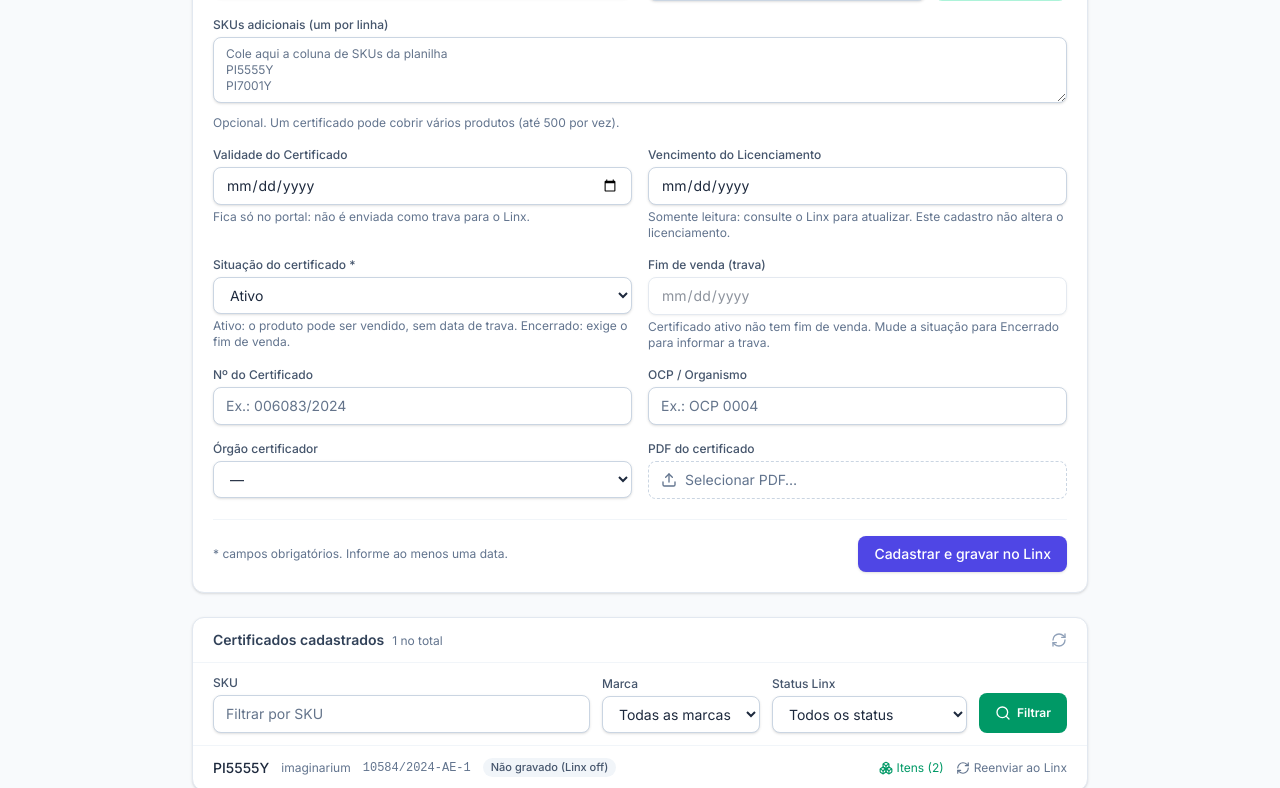
it: CertCadastroPage — fim de venda e itens (D11) › confirma o vinculo com dry_run=false
(page scrolled)
Click the button "Itens (2)" at (911, 768), box x1=878 y1=760 x2=944 y2=776
(page scrolled)
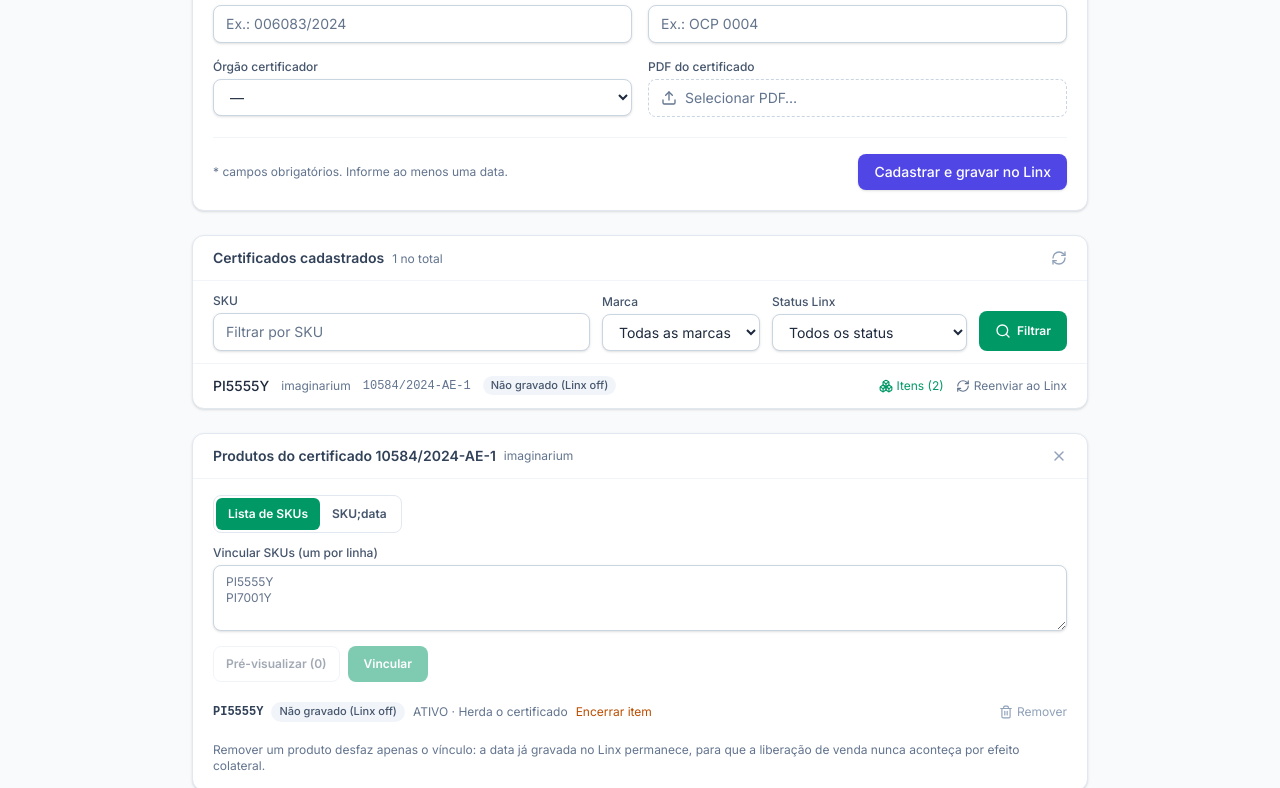
Type "A" into the text box labelled "Vincular SKUs (um por linha)" at (640, 598), box x1=213 y1=565 x2=1067 y2=631
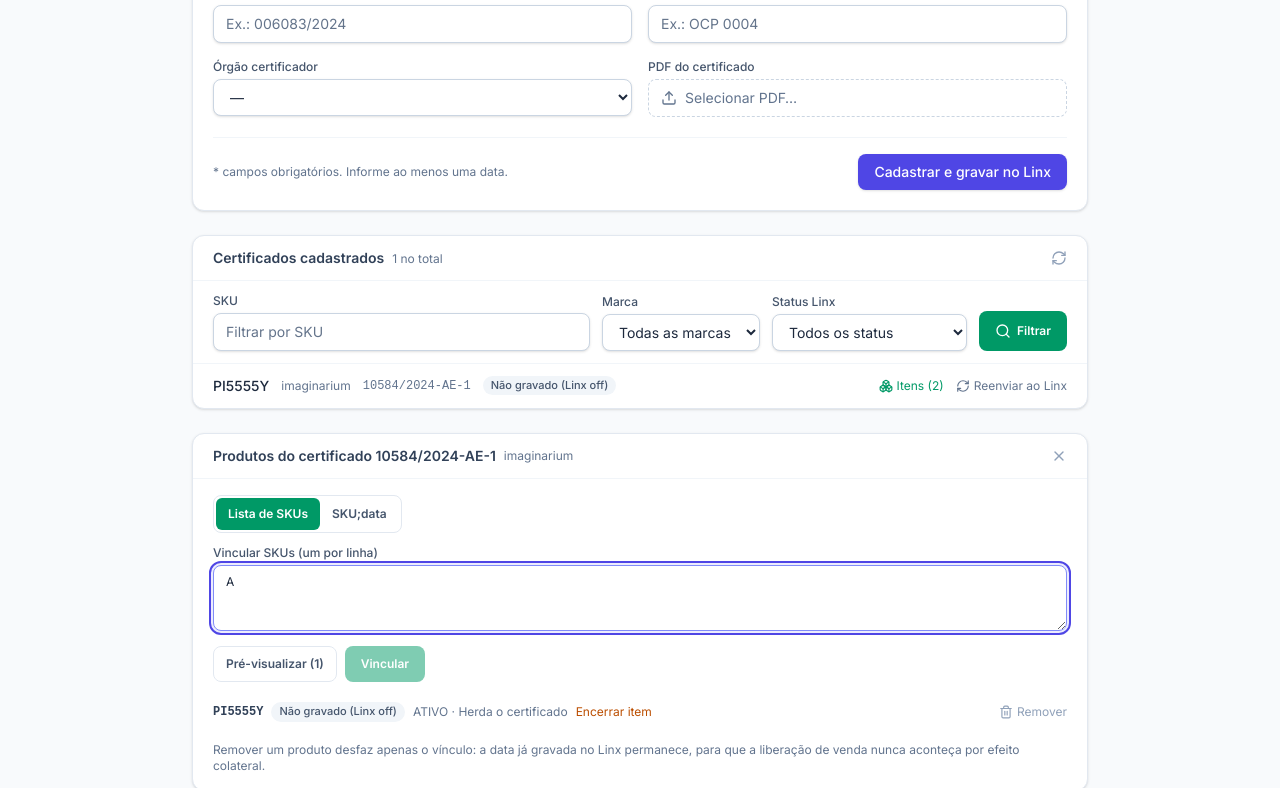
Click the button "Pré-visualizar (1)" at (275, 664), box x1=213 y1=646 x2=337 y2=682
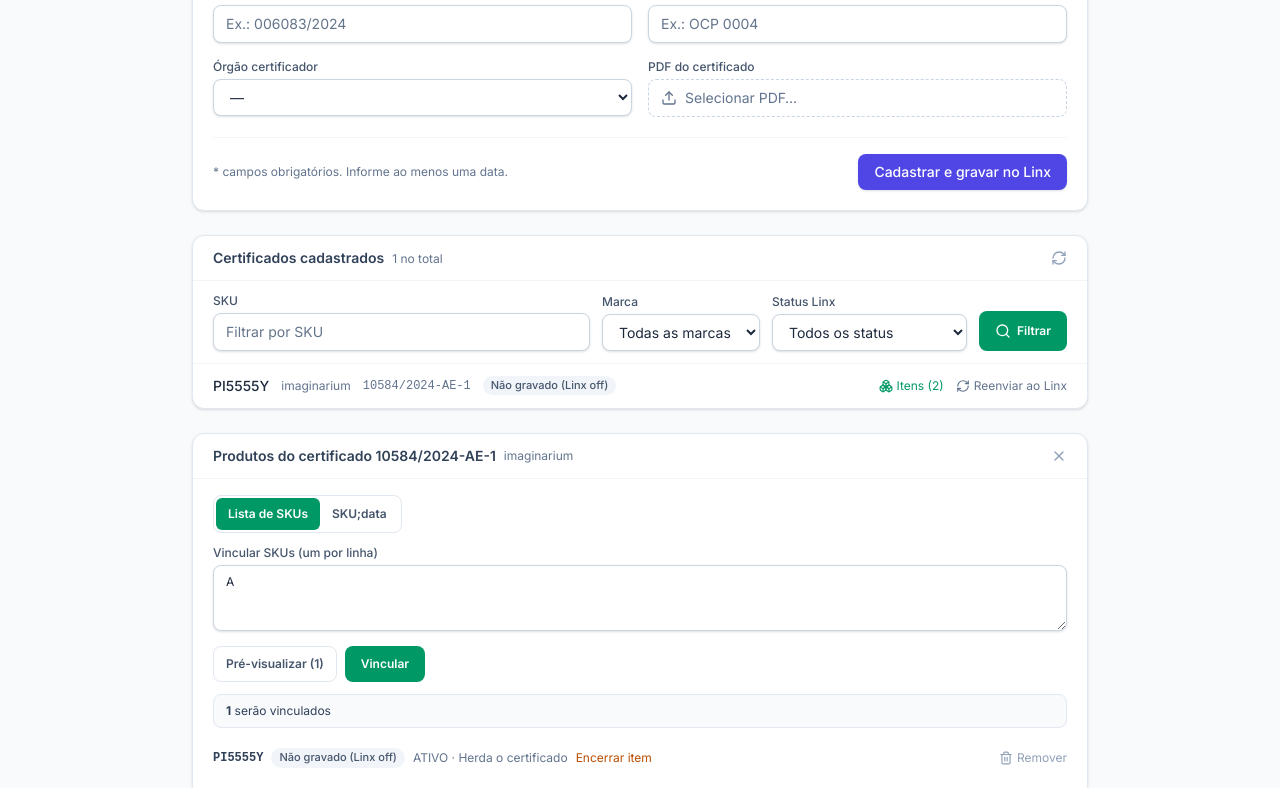
Expected: the button "Vincular" is enabled
Click the button "Vincular" at (385, 664), box x1=345 y1=646 x2=425 y2=682
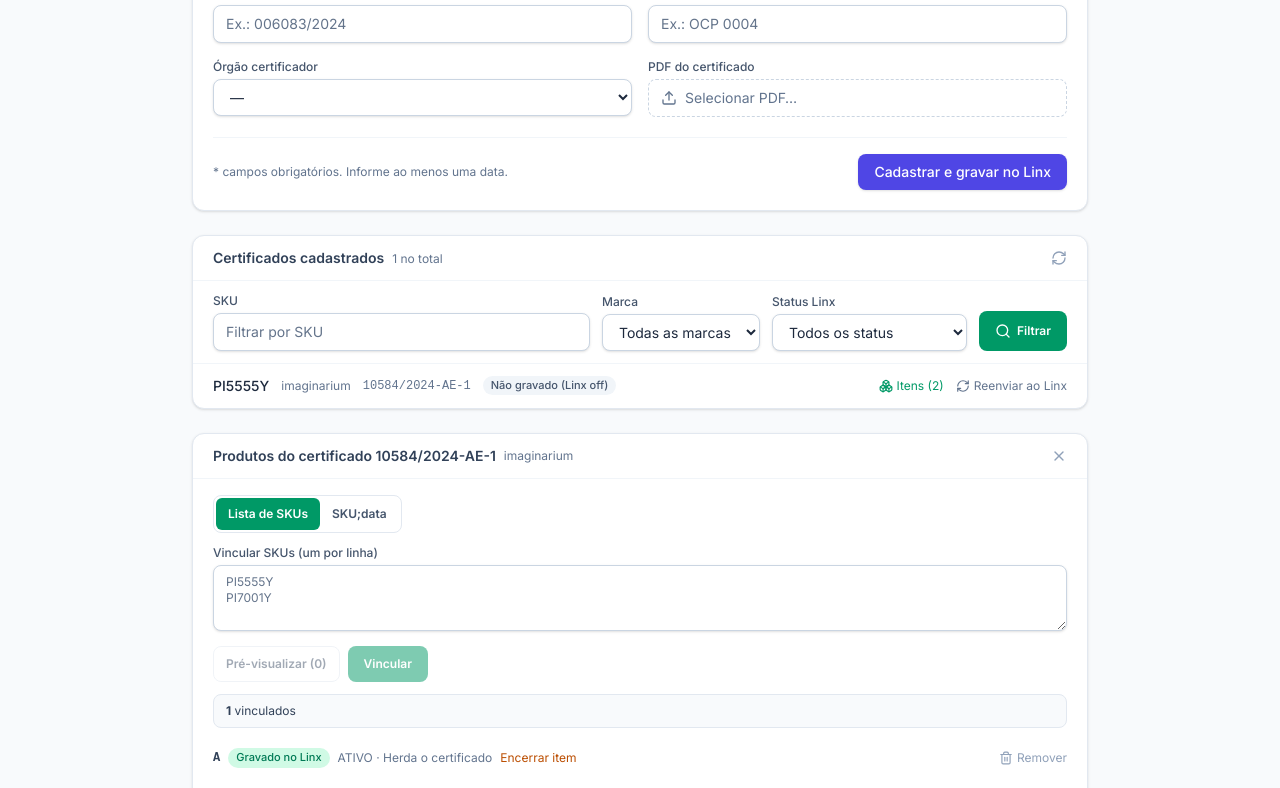
Expected: the button "Vincular" is disabled, x1=348 y1=646 x2=428 y2=682
